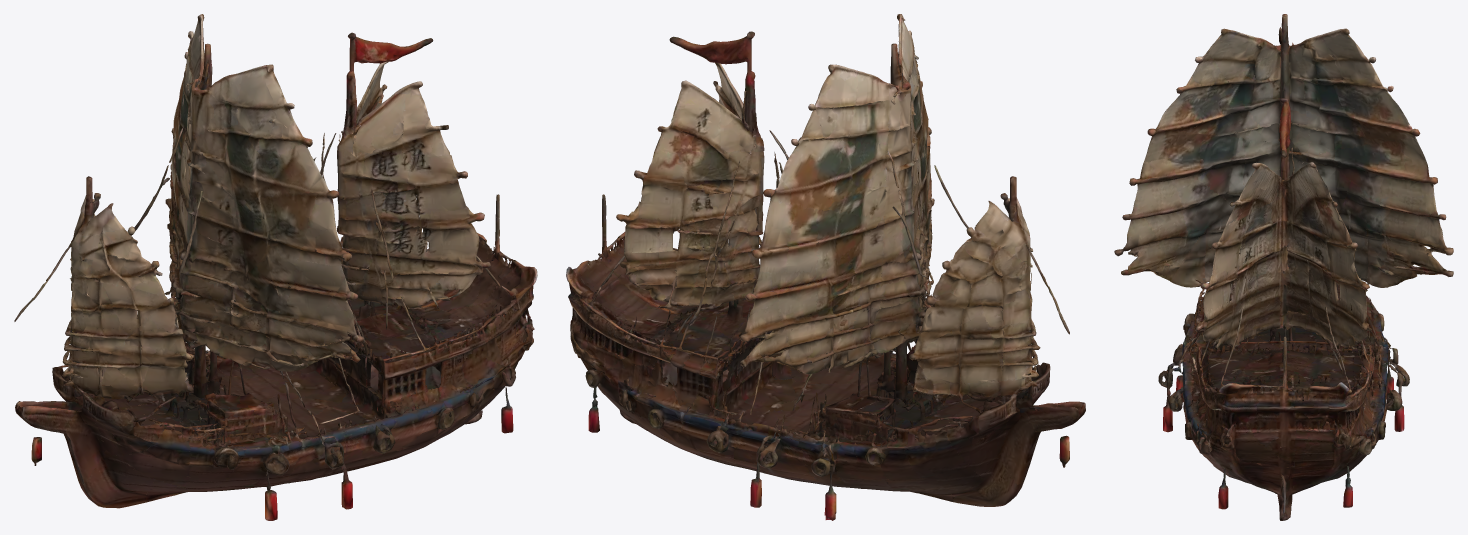
The model's file is Golden_Galleon_compressed_80.glb.
The picture shows the model from 3 angles, left to right: view 1: azimuth 30°, elevation 25°; view 2: azimuth 150°, elevation 25°; view 3: azimuth 270°, elevation 25°; orthographic projection. The views are drawn at different scales.
Parts seen in each view (by area): view 1: Mesh_0, Mesh_0.001; view 2: Mesh_0, Mesh_0.001; view 3: Mesh_0.001, Mesh_0.
Boxes of the visible parts, x1,y1,x2,y2 form: Mesh_0: [15, 216, 537, 520]; Mesh_0.001: [14, 14, 499, 342]; Mesh_0: [566, 218, 1085, 520]; Mesh_0.001: [602, 14, 1069, 341]; Mesh_0.001: [1114, 14, 1453, 358]; Mesh_0: [1121, 234, 1453, 520].
Bounding box in the file's own units: 2 × 1.74 × 1.37.
1 material, 1 textured.
